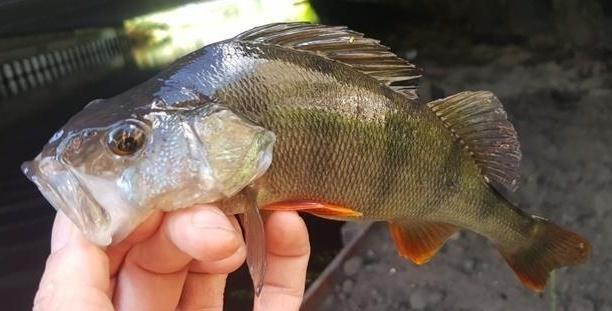Perch: (21, 13, 595, 297)
